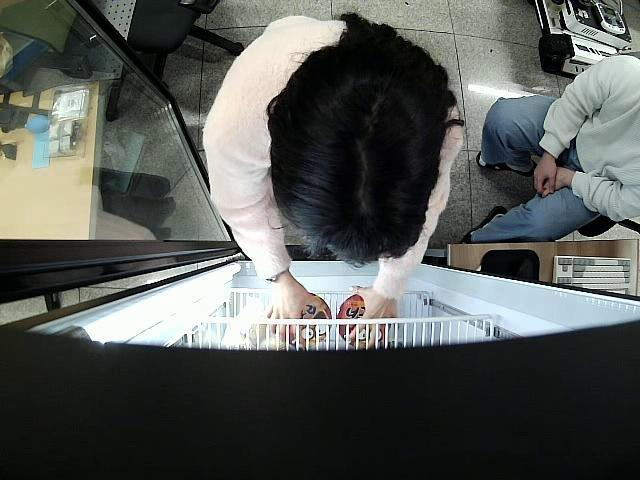05_nuguri_L: (340, 294, 391, 346), (288, 293, 332, 346)
